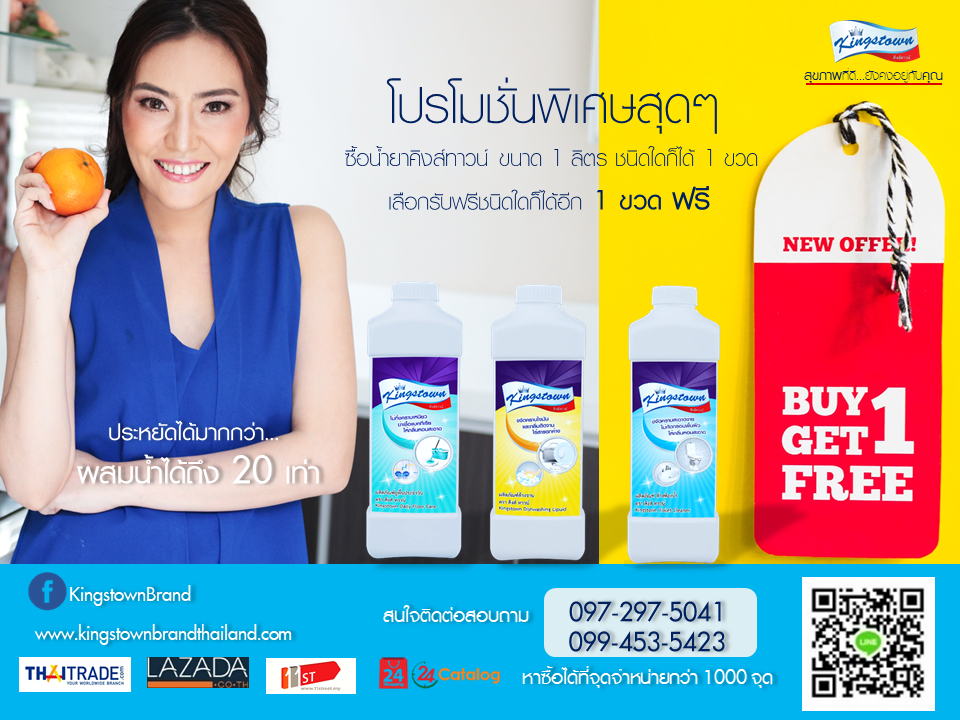Cleaning_solution: (485, 280, 593, 564), (619, 280, 725, 566), (363, 280, 467, 566)
